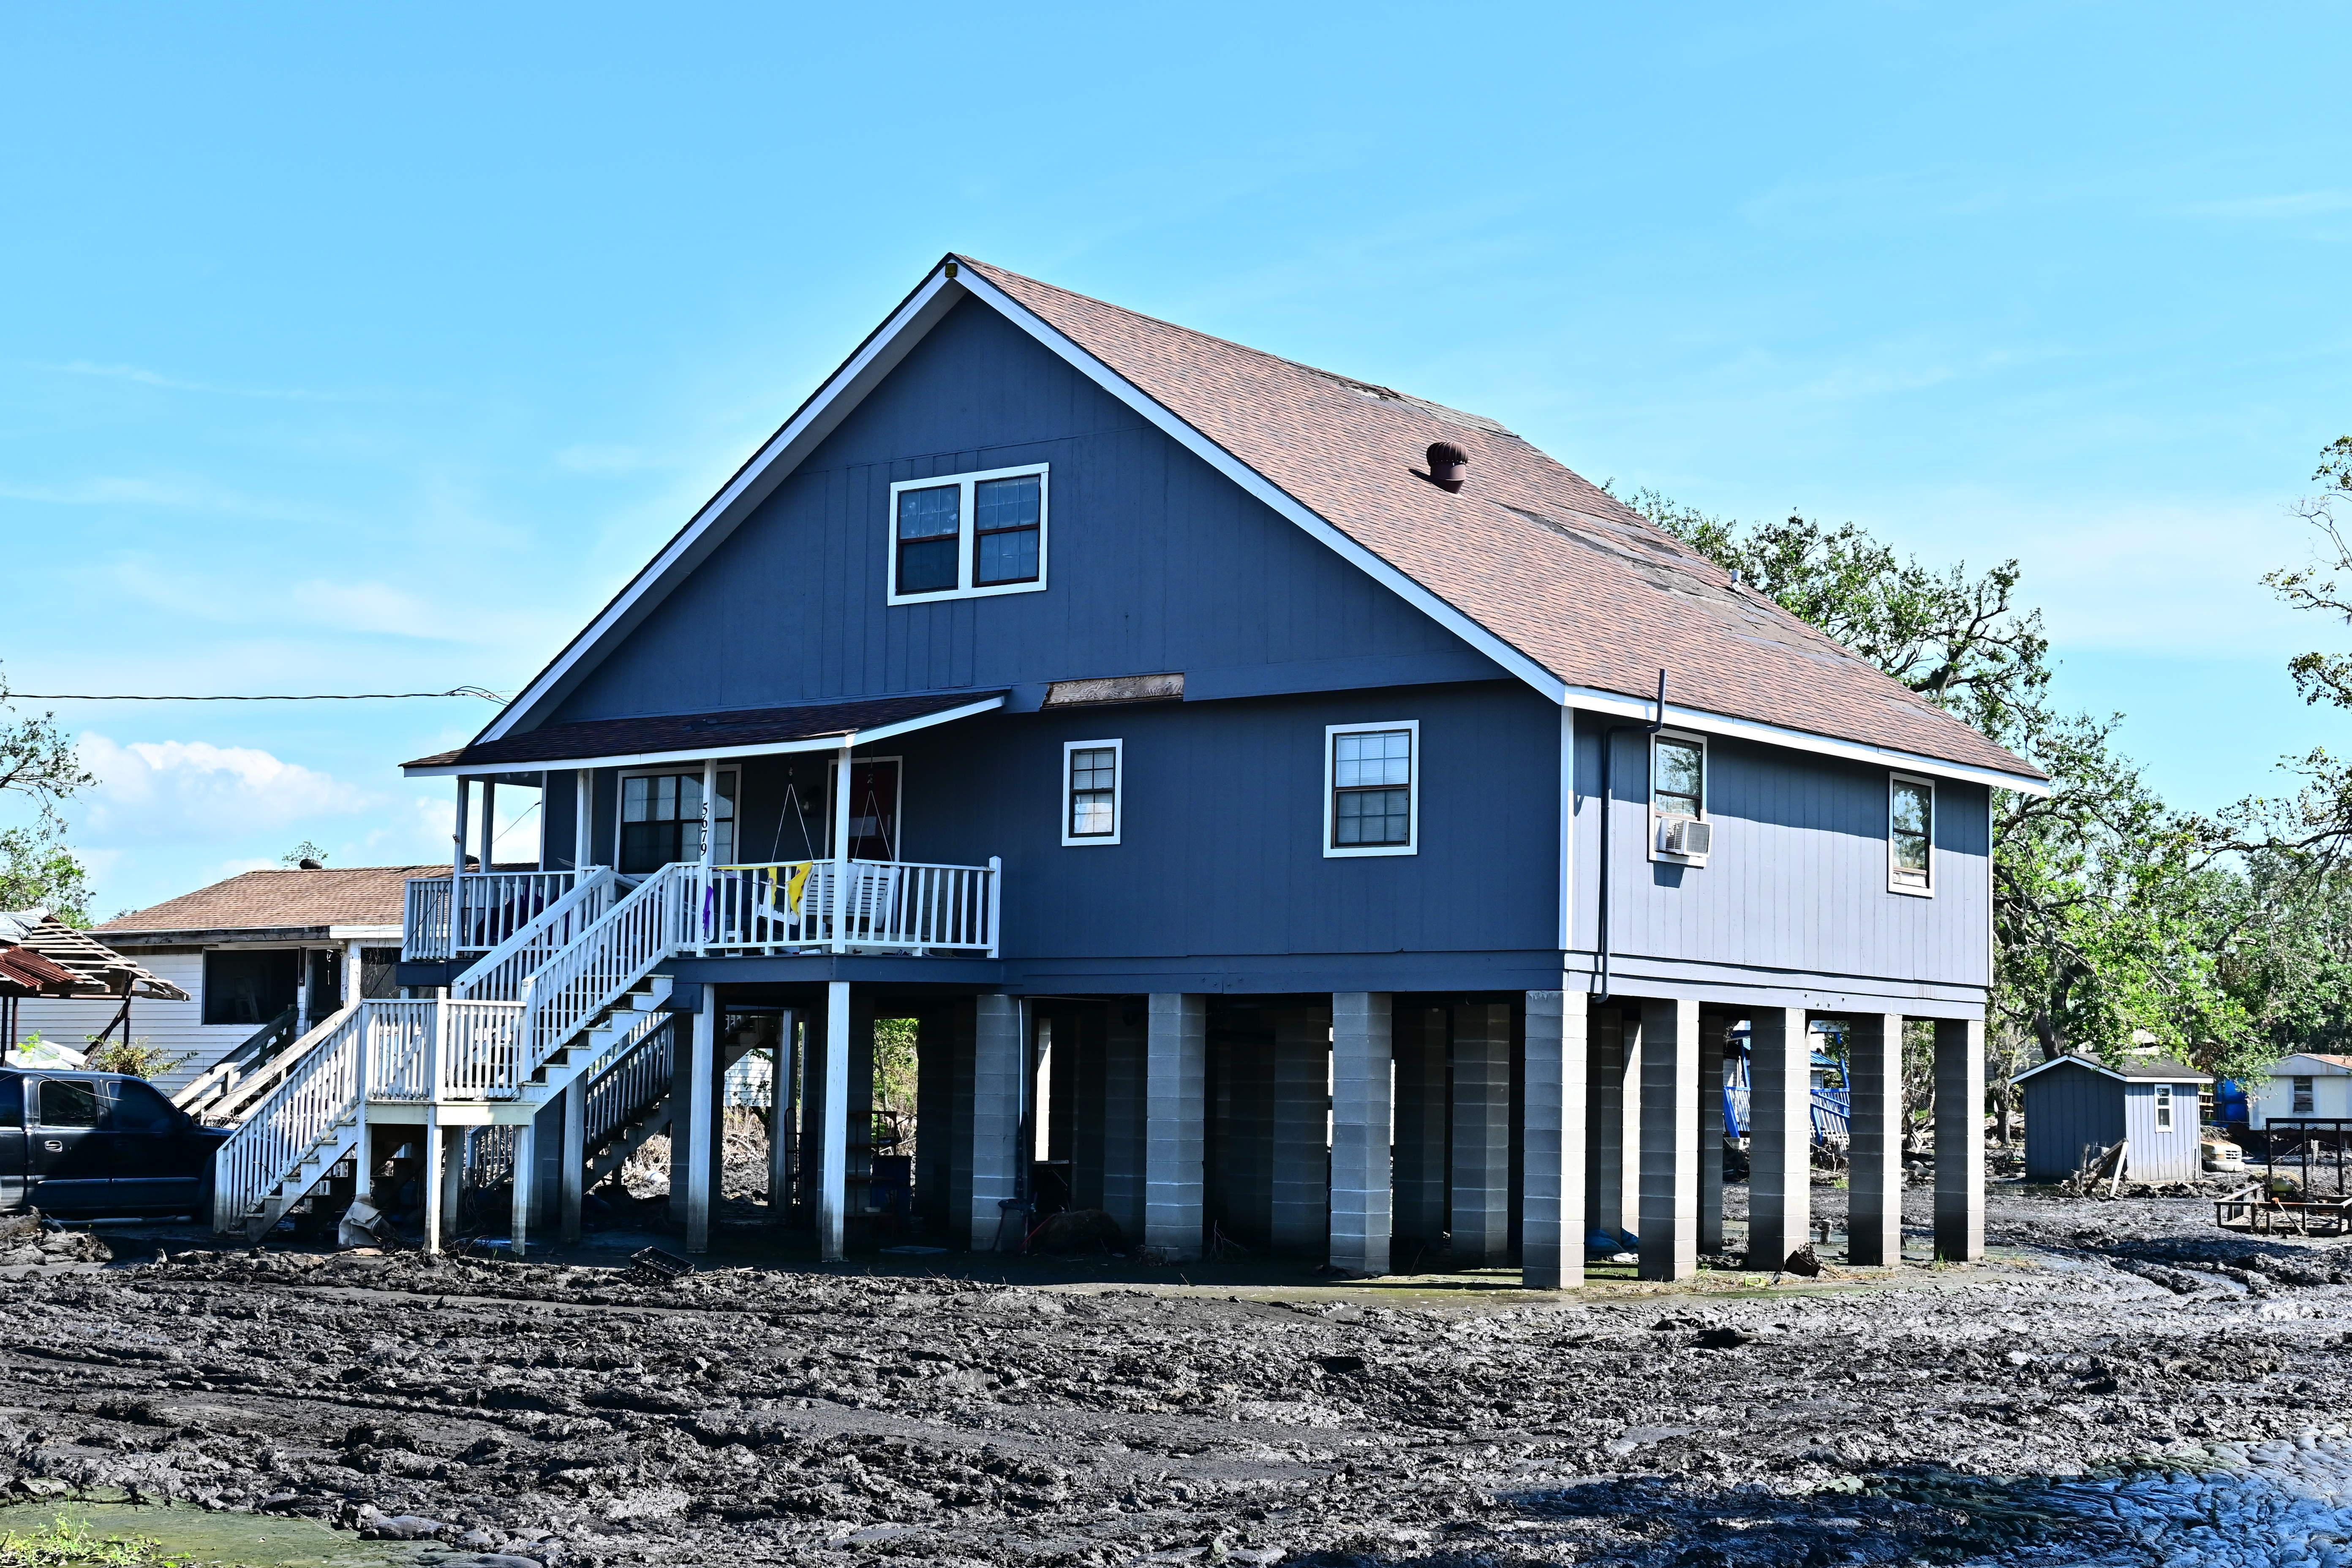affected: (319, 122, 2107, 1276)
